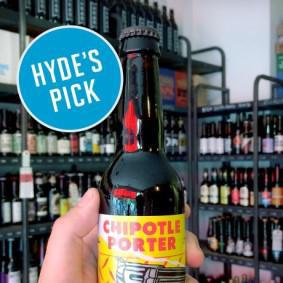beer: (97, 29, 187, 283)
